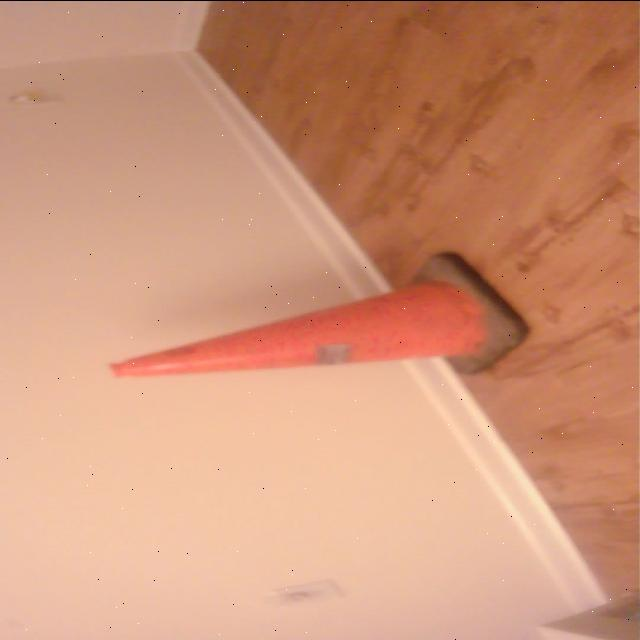traffic cone: (102, 249, 536, 381)
